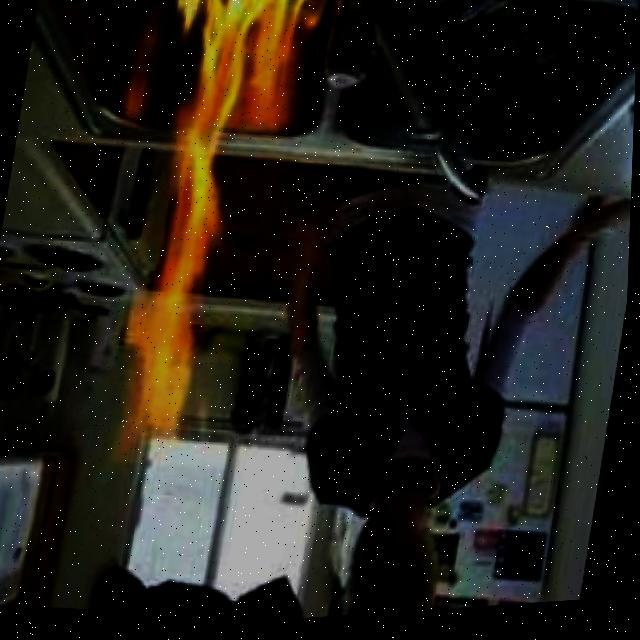Fire: (111, 0, 324, 449)
